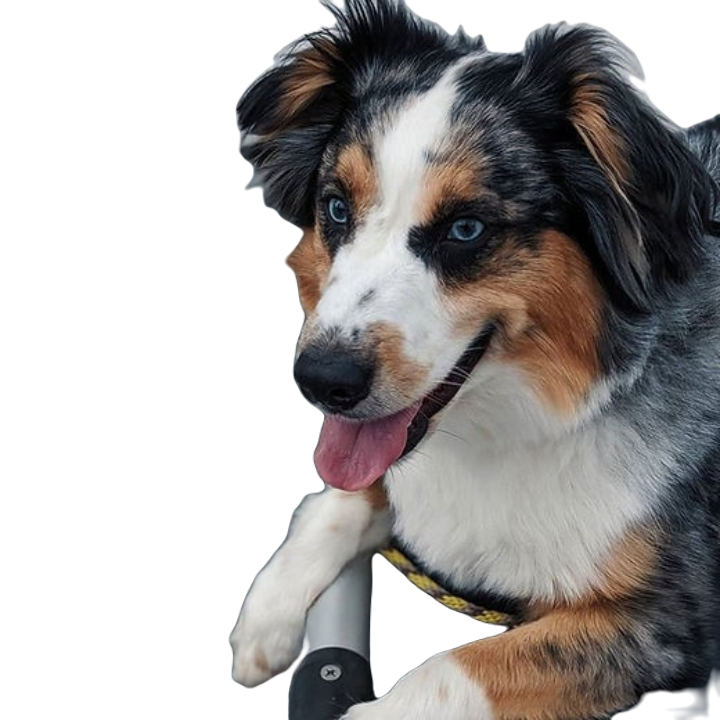Dog: (231, 0, 719, 719)
